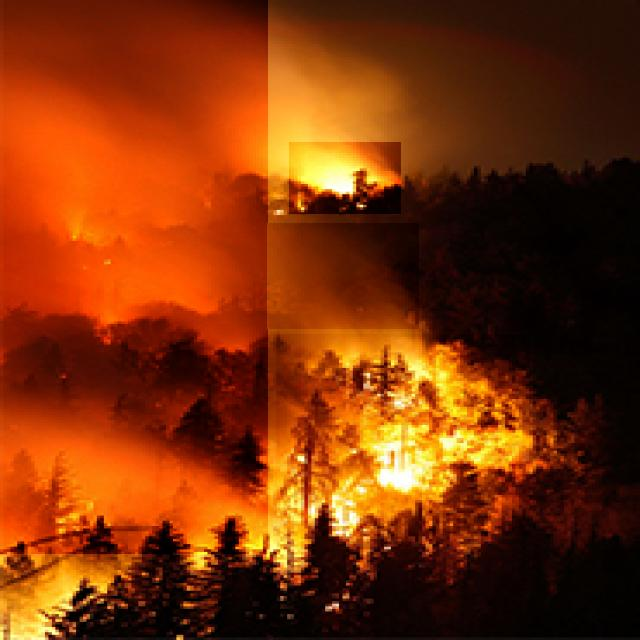Fire: (276, 334, 530, 536), (289, 142, 401, 214)
Smoke: (0, 0, 268, 554), (267, 223, 419, 329)
